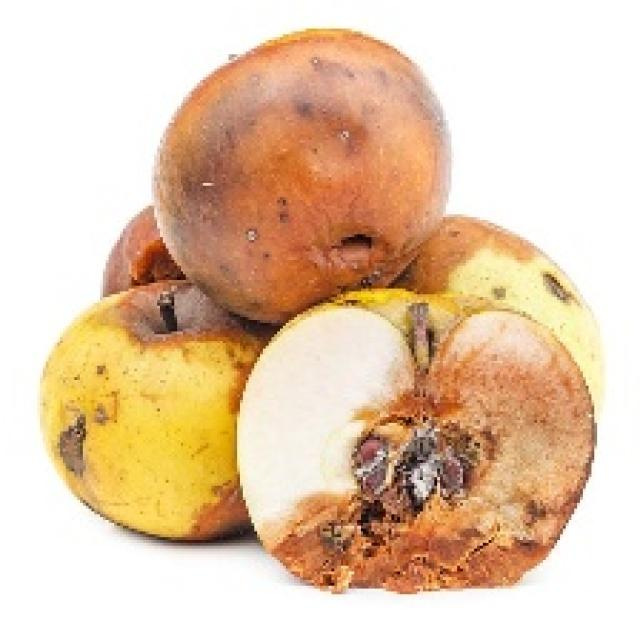rotten_apple: (243, 296, 594, 583), (159, 34, 449, 294), (43, 280, 234, 548)
